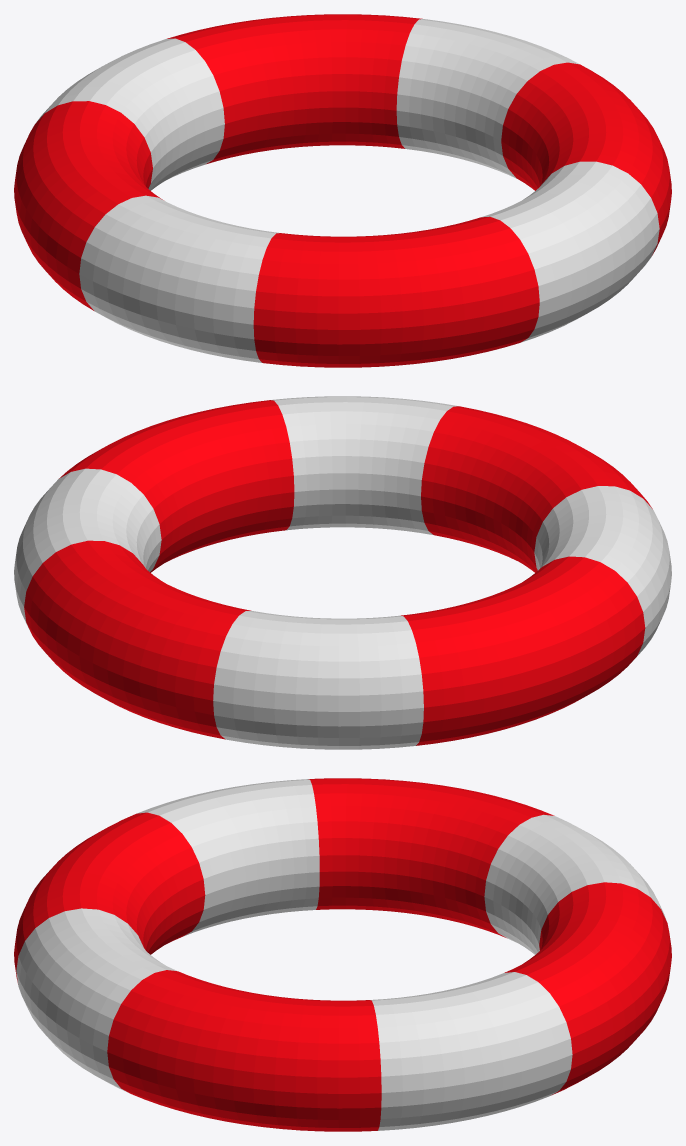
Rendered from SwimRIng.fbx.
3 views of the same model, one above another, from view 1: azimuth 30°, elevation 25°; view 2: azimuth 150°, elevation 25°; view 3: azimuth 270°, elevation 25° (orthographic).
Visible parts, largest first — view 1: Torus.004; view 2: Torus.004; view 3: Torus.004.
Part boxes in pixels (left/top/right/bottom): Torus.004: left=14, top=14, right=671, bottom=367; Torus.004: left=14, top=396, right=671, bottom=749; Torus.004: left=14, top=778, right=671, bottom=1131.
Size of the model in its own units: 250 by 50 by 250.
